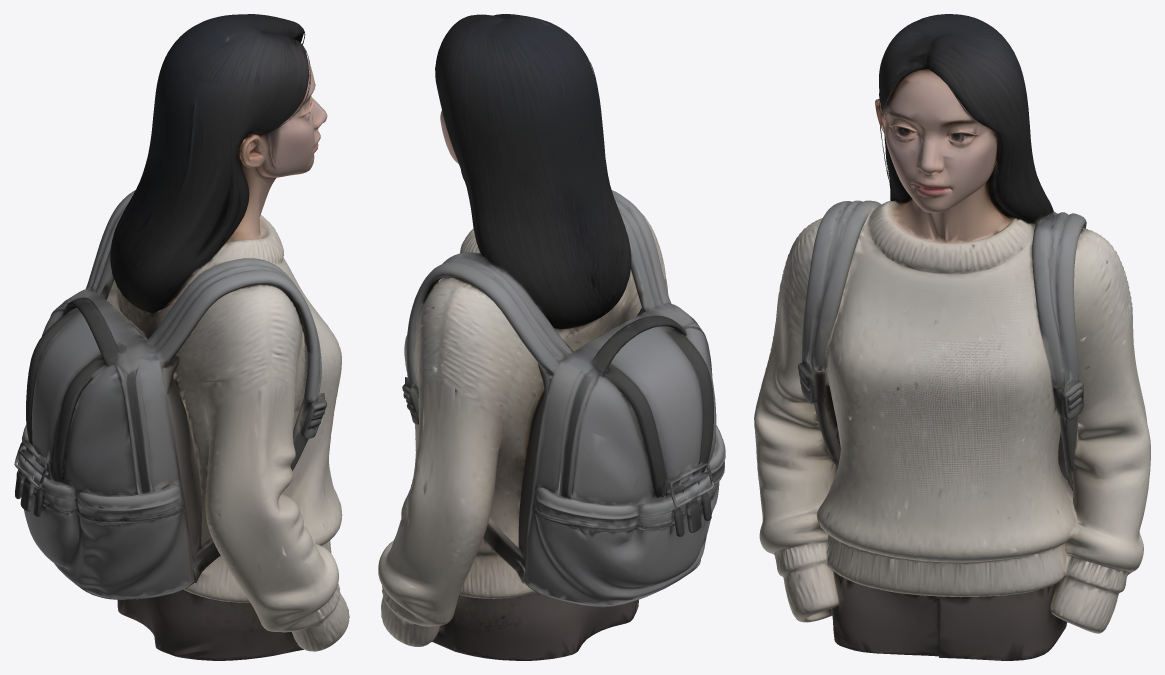
Rendered from demo_subject.glb.
3 renders of one model, left to right at view 1: azimuth 30°, elevation 25°; view 2: azimuth 150°, elevation 25°; view 3: azimuth 270°, elevation 25°, orthographic. The views are drawn at different scales.
Visible parts, largest first — view 1: node_0; view 2: node_0; view 3: node_0.
Boxes of the visible parts, x1,y1,x2,y2 form: node_0: (14, 14, 349, 660); node_0: (378, 14, 725, 660); node_0: (754, 14, 1150, 660).
Size of the model in its own units: 0.5402 by 1.08 by 0.6415.
Materials: 1 (1 with a texture image).
